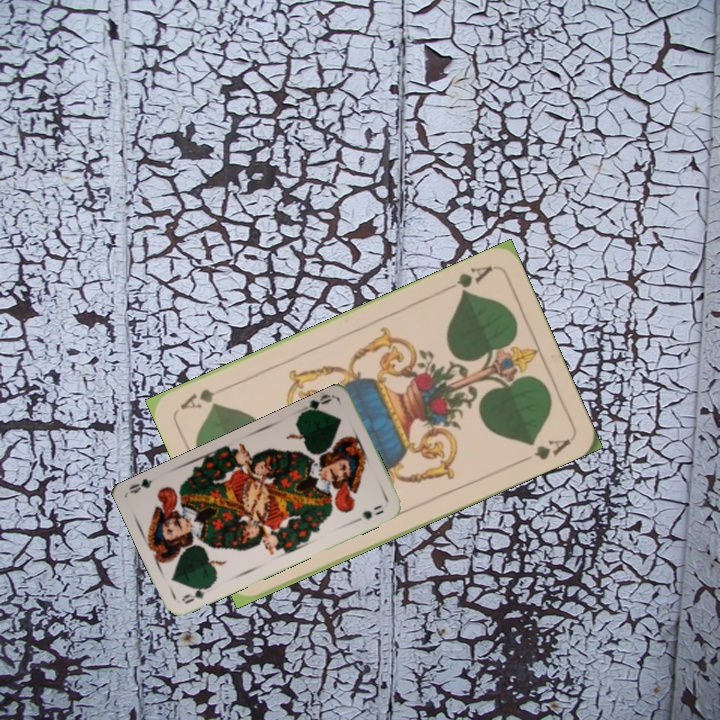GA: (440, 261, 496, 298)
GO: (297, 390, 335, 416), (177, 580, 215, 606)
